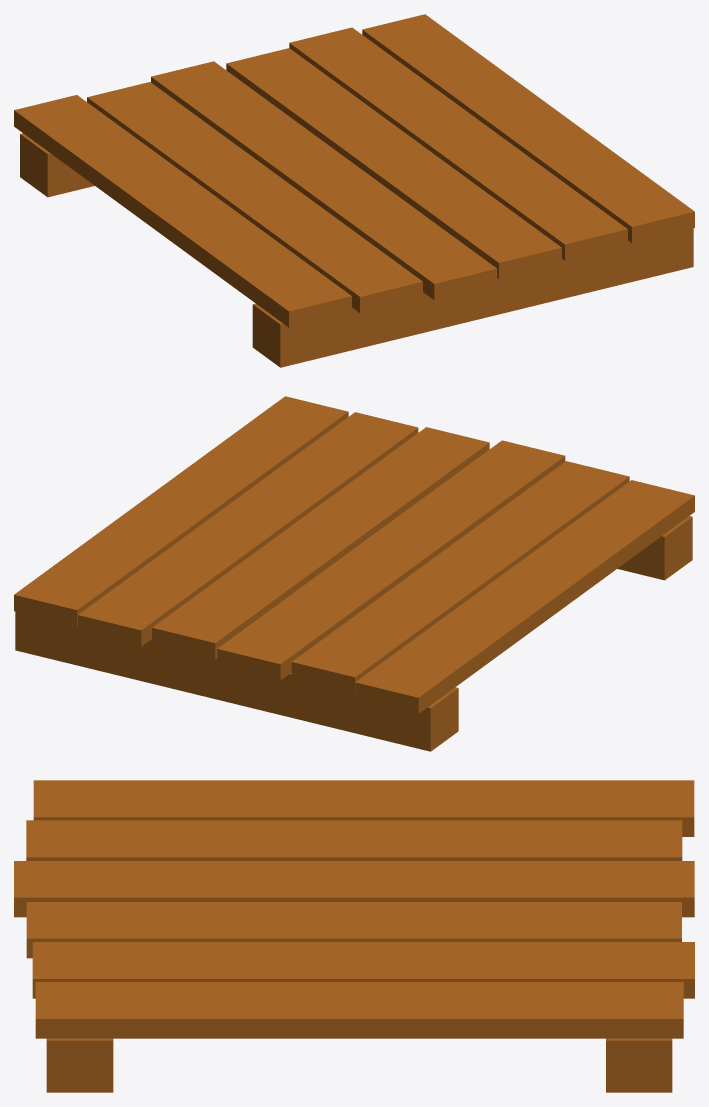
File: Plarform_Wooden.fbx
3 renders of one model, top to bottom at view 1: azimuth 30°, elevation 25°; view 2: azimuth 150°, elevation 25°; view 3: azimuth 270°, elevation 25°, orthographic. The views are drawn at different scales.
Visible parts, largest first — view 1: Cube.1458; view 2: Cube.1458; view 3: Cube.1458.
Boxes of the visible parts, bbox=[...] form: Cube.1458: bbox=[14, 14, 694, 367]; Cube.1458: bbox=[14, 396, 694, 751]; Cube.1458: bbox=[14, 780, 694, 1092].
Bounding box in the file's own units: 1839 × 253 × 2185.
